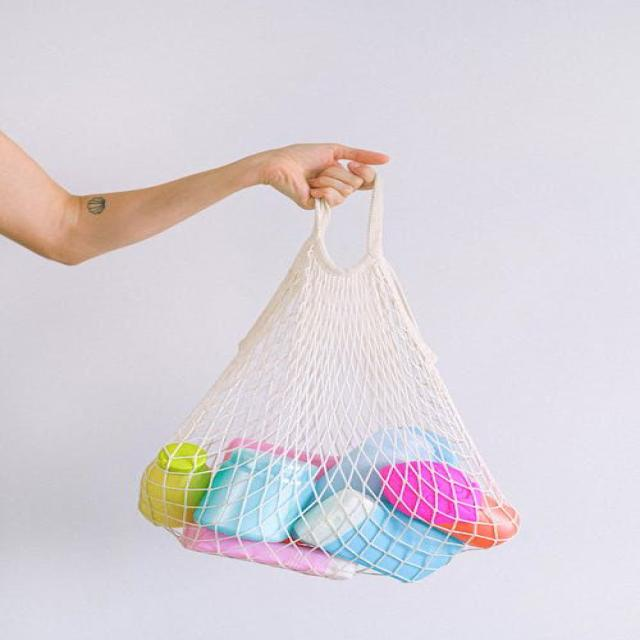plastic: (312, 490, 434, 572), (224, 437, 316, 539)
